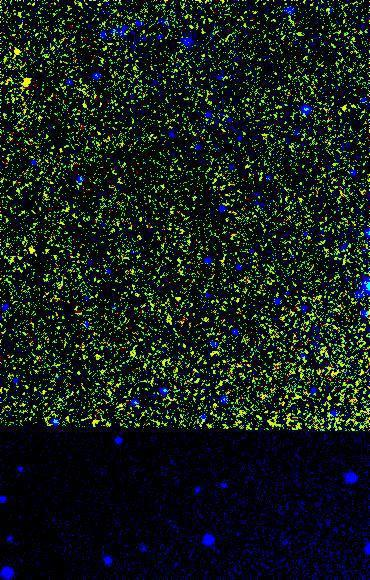star: (13, 67, 43, 97)
